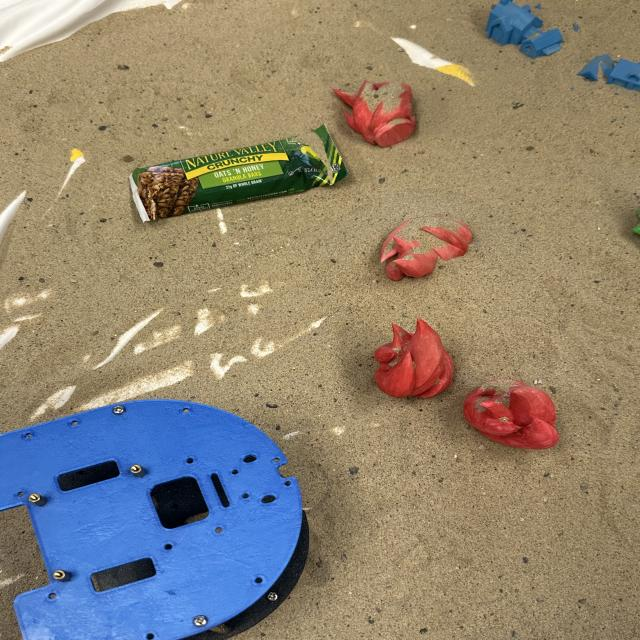fire: (462, 378, 560, 450), (372, 317, 454, 399), (378, 214, 474, 281), (331, 78, 417, 148)
house: (483, 0, 586, 59), (575, 53, 640, 87)
